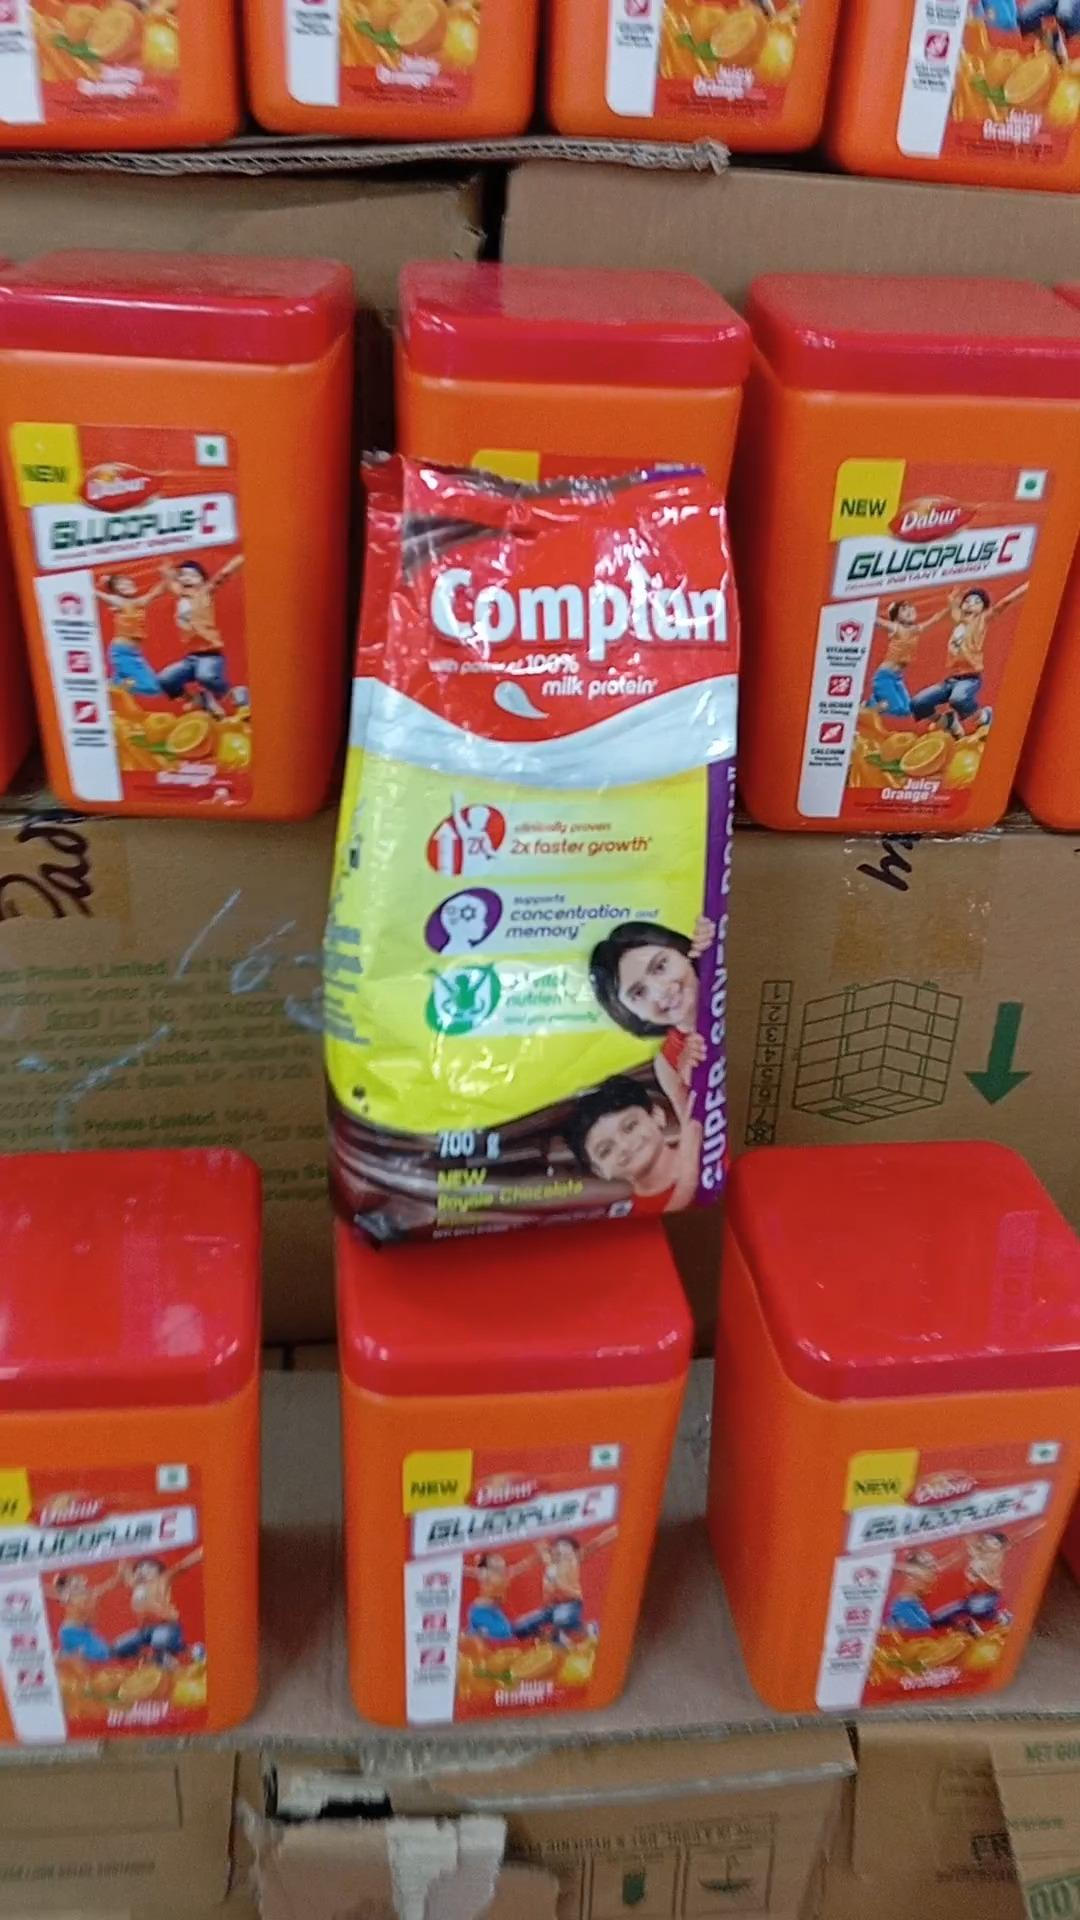COMPLAN_RC_POUCH_700_GMS_12: (353, 451, 725, 1226)
